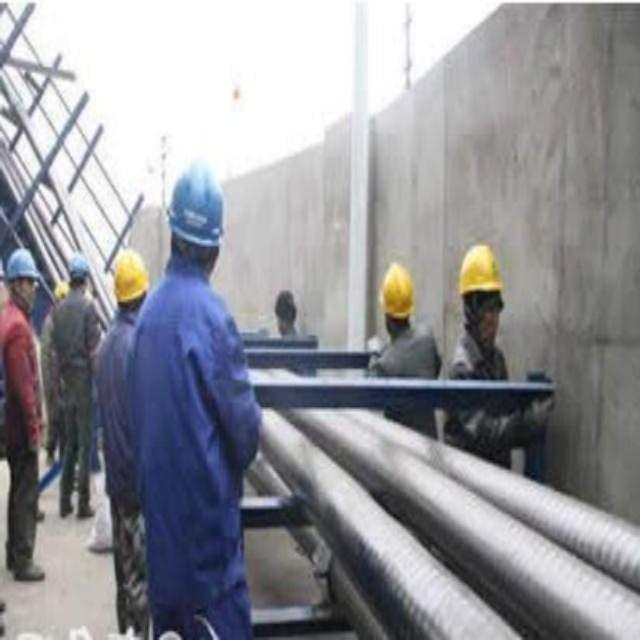Sin_Casco_Mascarrilla: (457, 244, 504, 338)
